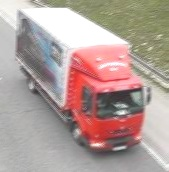truck: (18, 8, 152, 152)
